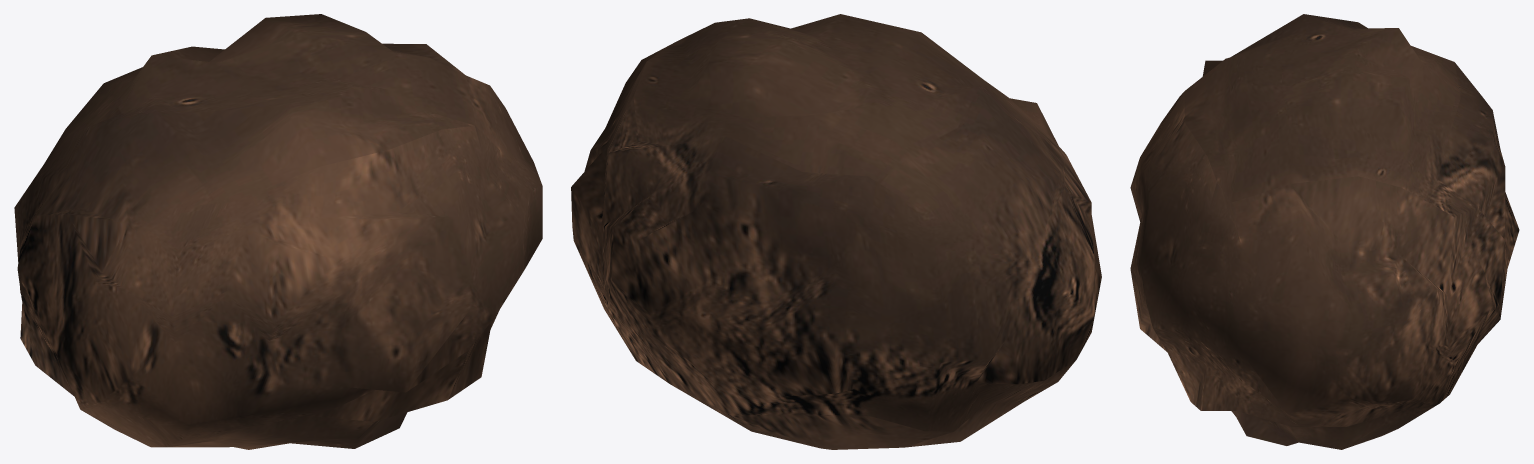
The model's file is asteroid_2.fbx.
3 views of the same model, side by side, from view 1: azimuth 30°, elevation 25°; view 2: azimuth 150°, elevation 25°; view 3: azimuth 270°, elevation 25° (orthographic). The views are drawn at different scales.
Parts seen in each view (by area): view 1: Sphere; view 2: Sphere; view 3: Sphere.
Boxes of the visible parts, box(x1,y1,x2,y2) form: Sphere: box(14, 14, 542, 449); Sphere: box(571, 14, 1101, 449); Sphere: box(1130, 14, 1519, 449).
Bounding box in the file's own units: 138 × 105 × 103.
Materials: 1 (1 with a texture image).
